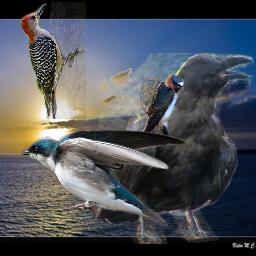Crow: (94, 53, 254, 244)
Swallow: (20, 127, 187, 230), (139, 74, 184, 136)
Woodpecker: (17, 2, 86, 119)
